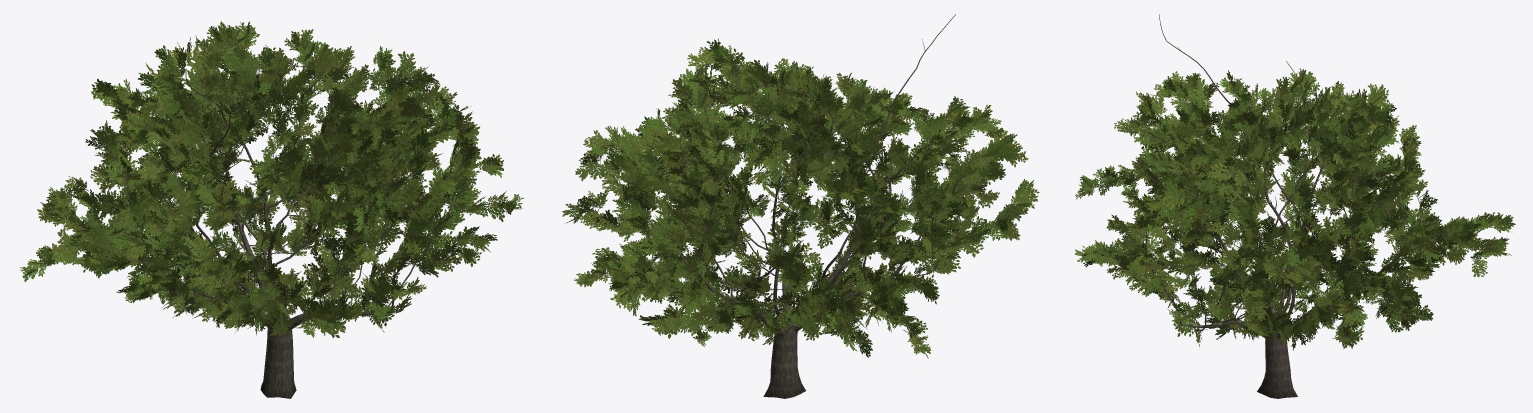
File: dub_stary.glb
3 views of the same model, side by side, from view 1: azimuth 30°, elevation 25°; view 2: azimuth 150°, elevation 25°; view 3: azimuth 270°, elevation 25° (orthographic). The views are drawn at different scales.
Parts seen in each view (by area): view 1: dub_stary; view 2: dub_stary; view 3: dub_stary.
Part boxes in pixels (bbox=[...]): dub_stary: bbox=[19, 21, 523, 398]; dub_stary: bbox=[562, 14, 1039, 398]; dub_stary: bbox=[1074, 14, 1515, 398].
Bounding box in the file's own units: 22.08 × 19.12 × 23.47.
Materials: 2 (2 with a texture image).
